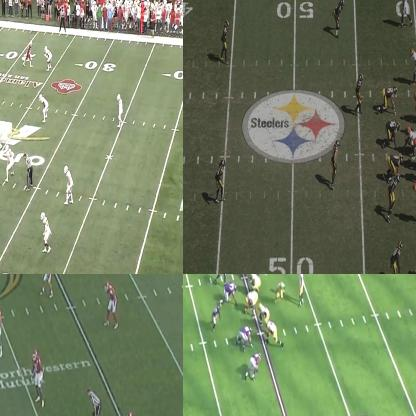CENTER: (244, 292, 258, 314), (405, 125, 415, 152)
DB: (389, 173, 401, 220), (39, 211, 51, 253), (105, 284, 117, 326), (390, 243, 401, 273), (216, 162, 224, 201), (336, 0, 345, 33), (116, 93, 124, 128), (40, 274, 53, 295), (41, 48, 52, 72), (222, 20, 228, 62), (66, 165, 72, 205)
LB: (33, 350, 45, 403), (330, 138, 340, 186), (4, 145, 14, 179), (38, 95, 50, 122), (357, 72, 365, 112), (211, 304, 222, 329), (0, 301, 2, 355), (220, 274, 230, 281)
QB: (296, 274, 306, 307)
SKILL: (401, 0, 412, 22), (26, 43, 33, 66), (278, 282, 286, 299)
